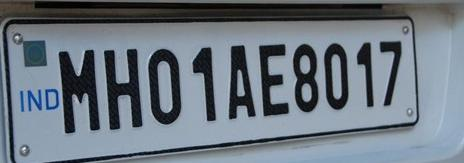0: (145, 46, 185, 125), (321, 39, 351, 109)
1: (189, 44, 222, 121), (354, 38, 377, 108)
7: (377, 37, 403, 106)
8: (291, 43, 322, 112)
A: (225, 43, 258, 119)
E: (255, 40, 291, 115)
H: (101, 45, 145, 131)
M: (56, 44, 102, 133)
